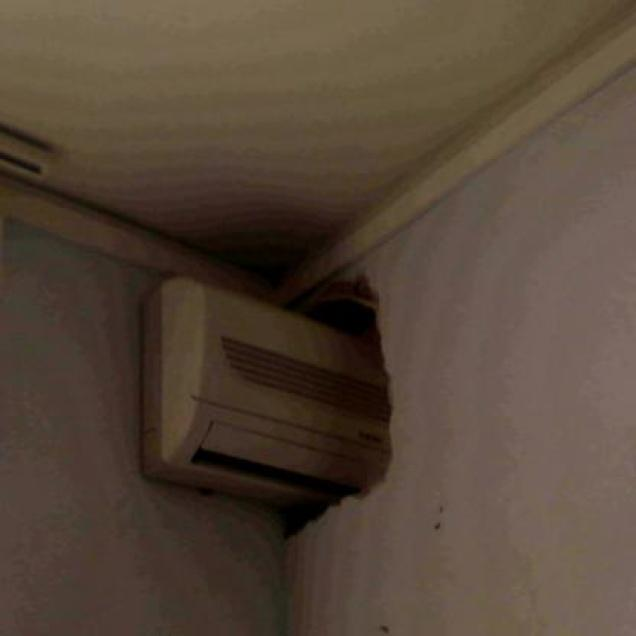AC: (140, 276, 388, 509)
